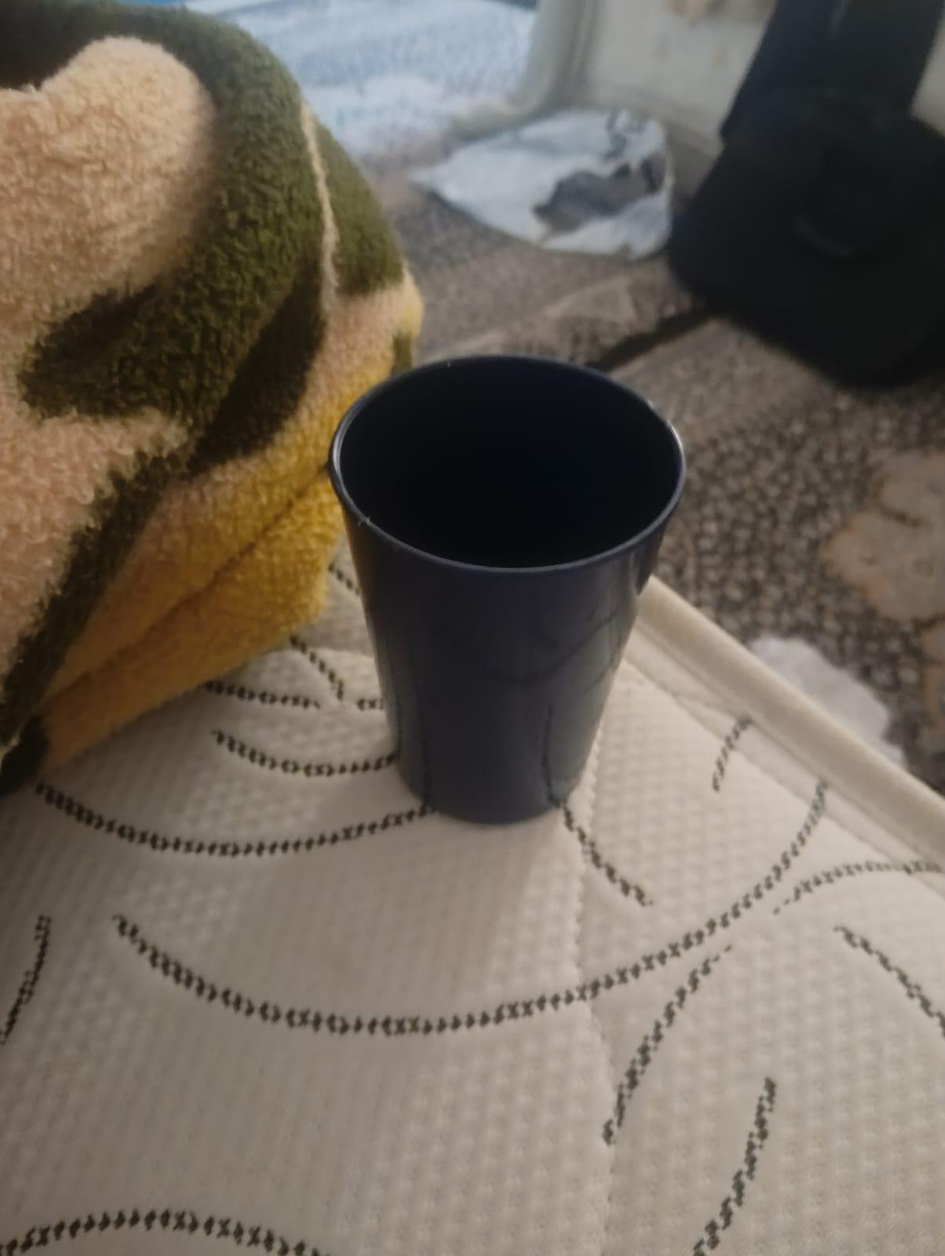cup: (329, 355, 684, 824), (328, 353, 688, 578)
